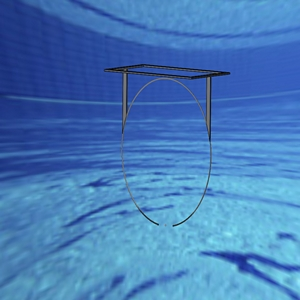circle: (101, 62, 232, 230)
